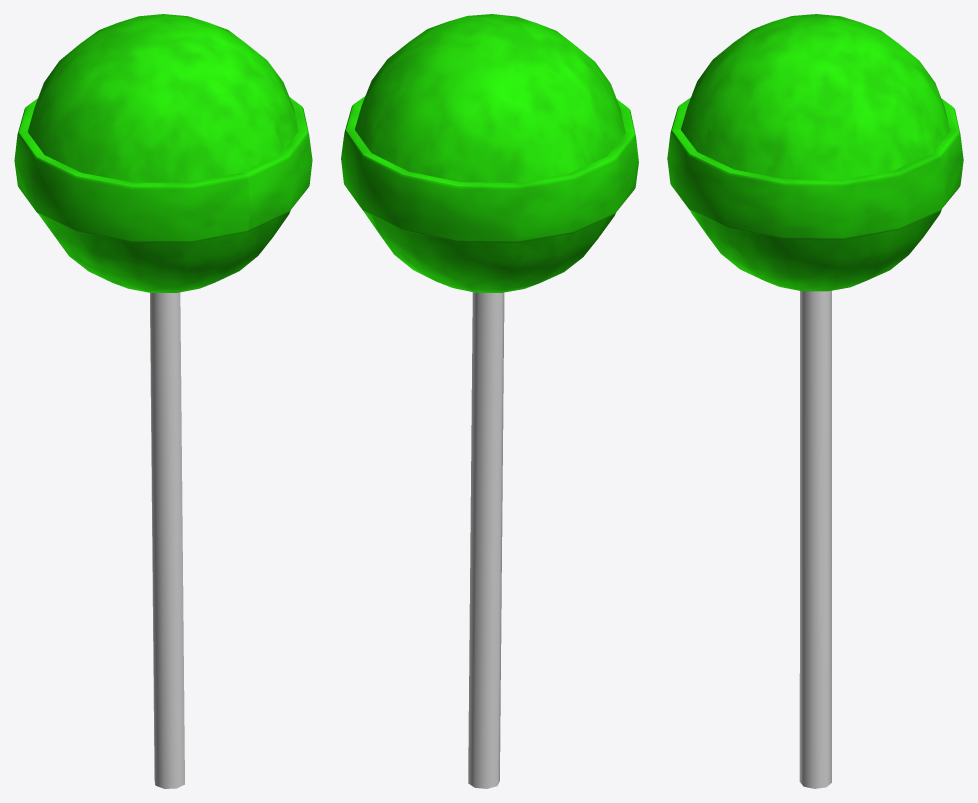
The model's file is PERMEN F.fbx.
3 views of the same model, side by side, from view 1: azimuth 30°, elevation 25°; view 2: azimuth 150°, elevation 25°; view 3: azimuth 270°, elevation 25° (orthographic).
Visible parts, largest first — view 1: Diorama.033; view 2: Diorama.033; view 3: Diorama.033.
Part boxes in pixels (bbox=[...]): Diorama.033: bbox=[14, 14, 312, 788]; Diorama.033: bbox=[341, 14, 638, 788]; Diorama.033: bbox=[667, 14, 963, 788].
Bounding box in the file's own units: 314 × 112 × 112.
Materials: 1 (1 with a texture image).
